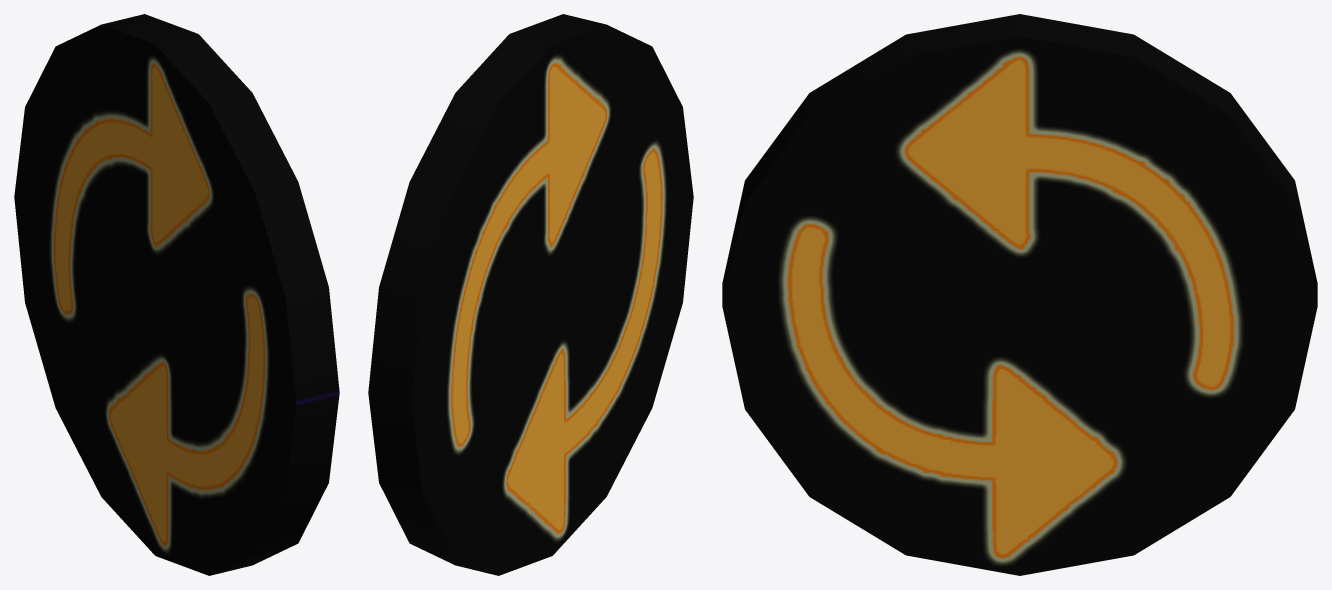
The model's file is icon_confuse.FBX.
3 renders of one model, left to right at view 1: azimuth 30°, elevation 25°; view 2: azimuth 150°, elevation 25°; view 3: azimuth 270°, elevation 25°, orthographic. The views are drawn at different scales.
Parts seen in each view (by area): view 1: icon_confuse; view 2: icon_confuse; view 3: icon_confuse.
Part boxes in pixels (<box>): icon_confuse: <box>14,14,339,575</box>; icon_confuse: <box>368,14,693,575</box>; icon_confuse: <box>722,14,1317,575</box>.
Size of the model in its own units: 4.67 by 52.59 by 52.59.
1 material, 1 textured.
